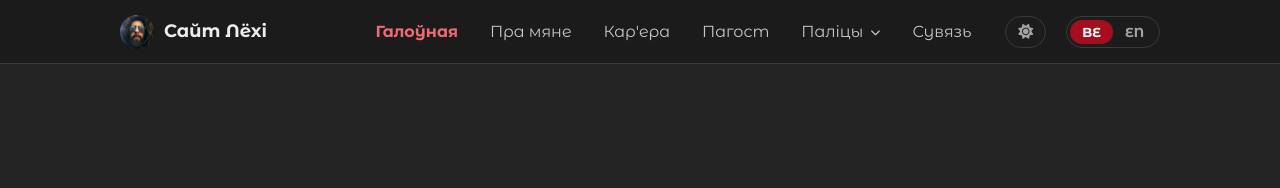
«Паліцы» in the nav › closes after a link is chosen, and stays hidden under the pointer until it leaves
Click the button "Паліцы" at (841, 32), box [787,14,894,49]
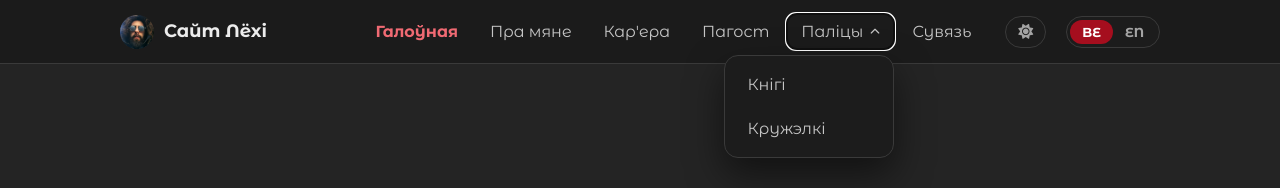
Click the link "Кнігі" at (766, 84), box [747,75,786,94]
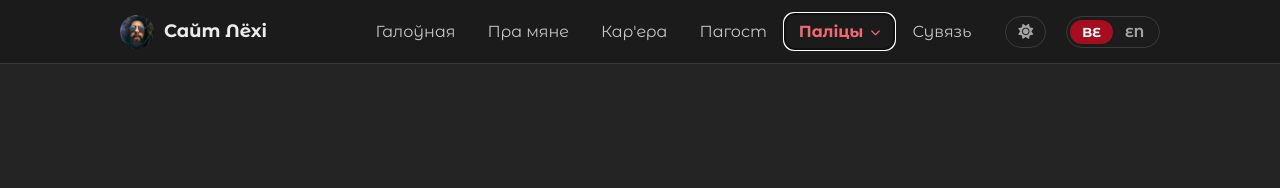
Expected: the button "Паліцы" is collapsed, [785,14,894,49]
